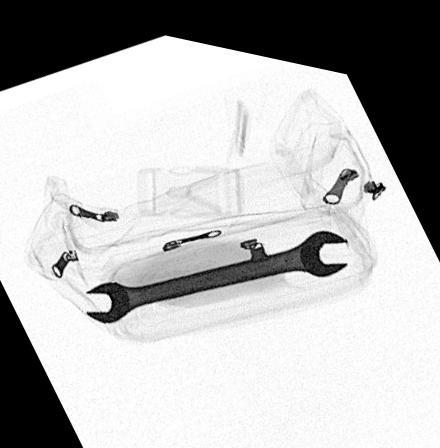Wrench: (83, 214, 348, 318)
